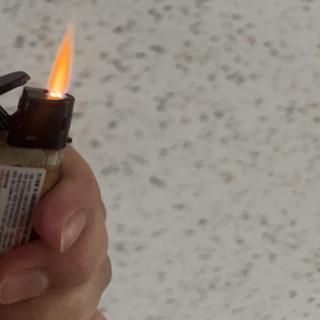fire: (45, 30, 75, 94)
